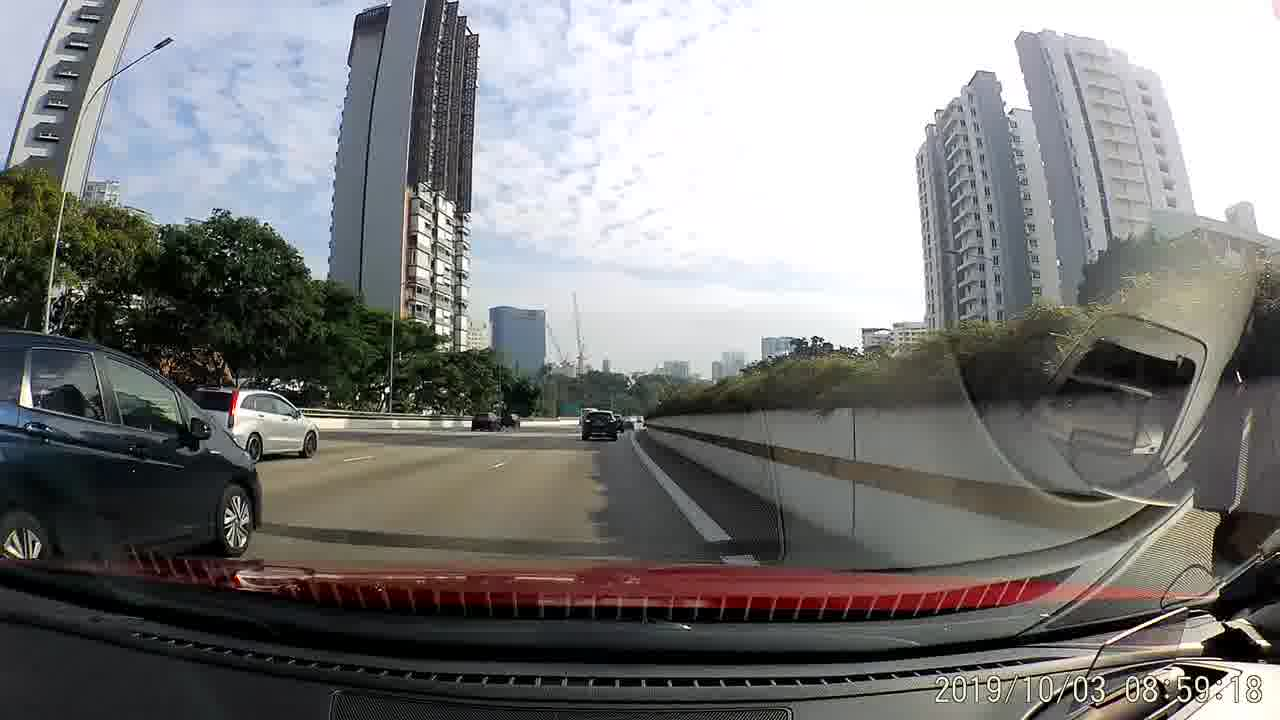car: (0, 326, 265, 559), (189, 381, 319, 463), (583, 408, 616, 445), (473, 409, 503, 432), (500, 410, 519, 429), (612, 412, 626, 432)
